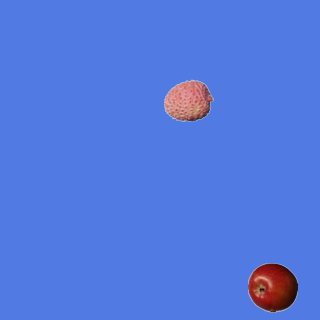Apple Braeburn: (247, 262, 297, 312)
Lychee: (163, 75, 213, 125)
